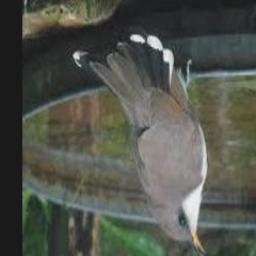Cuckoo: (73, 35, 212, 256)
